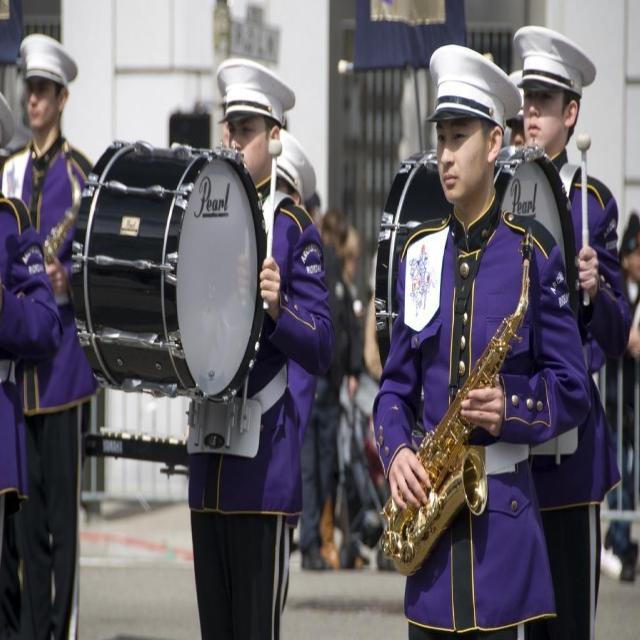saxophone: (379, 225, 541, 578), (24, 140, 86, 266)
